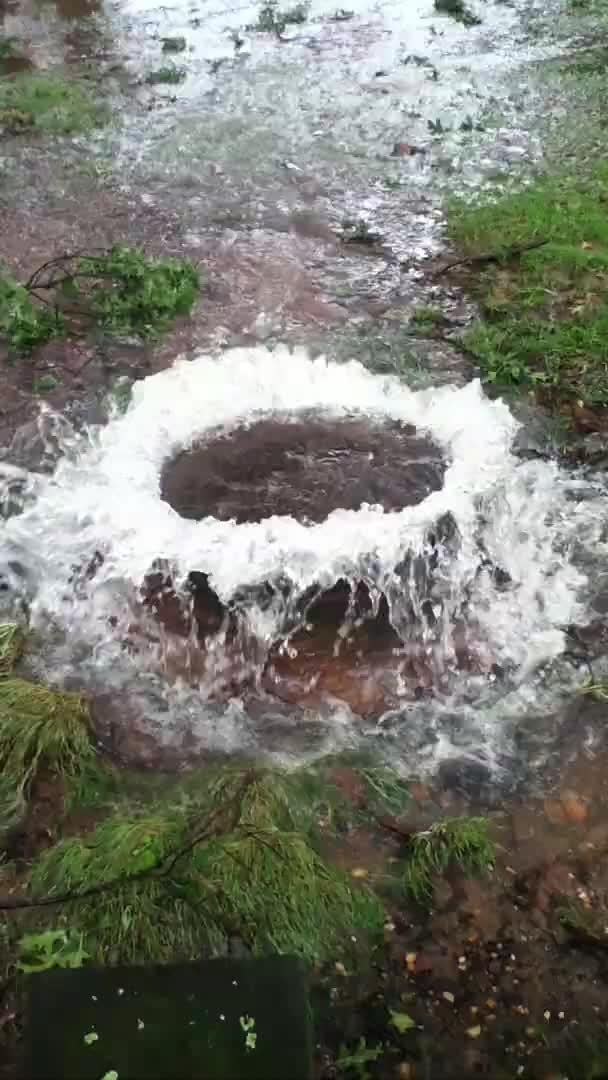drainage overflow-repair-: (0, 333, 581, 776)
